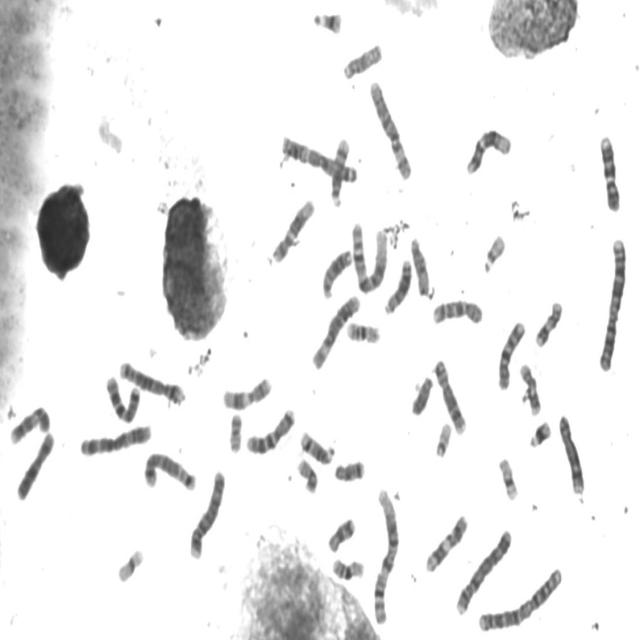A1: (370, 483, 401, 626), (348, 218, 389, 295)
A2: (474, 562, 564, 634), (595, 233, 628, 374)
A3: (277, 131, 358, 185), (77, 419, 153, 458)
B4: (452, 525, 514, 617), (186, 466, 226, 562)
B5: (116, 356, 187, 406), (141, 447, 197, 493)
C10: (495, 316, 527, 392), (429, 295, 484, 327)
C11: (422, 510, 469, 574), (220, 372, 273, 412)
C12: (269, 193, 316, 265), (463, 124, 513, 176)
C6: (367, 76, 413, 182), (309, 290, 362, 372)
C7: (242, 403, 296, 456), (103, 371, 141, 425)
C8: (431, 354, 468, 436), (556, 410, 586, 496)
C9: (596, 130, 622, 214), (6, 401, 52, 446)
D13: (381, 254, 413, 316), (320, 244, 354, 301)
D14: (328, 133, 352, 209), (297, 426, 336, 466)
D15: (340, 38, 383, 81), (408, 232, 434, 300)
E16: (344, 316, 382, 346), (329, 554, 366, 582)
E17: (532, 296, 564, 349), (517, 359, 542, 417)
E18: (325, 512, 356, 555), (331, 455, 366, 484)
F19: (114, 543, 145, 584), (496, 453, 520, 503)
F20: (294, 455, 319, 494), (226, 409, 243, 455)
G21: (310, 5, 344, 36), (526, 416, 552, 450)
G22: (481, 229, 507, 275), (433, 418, 453, 459)
X: (12, 428, 56, 502)
Y: (408, 371, 434, 418)
